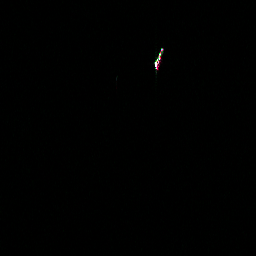ship: (151, 45, 166, 70)
